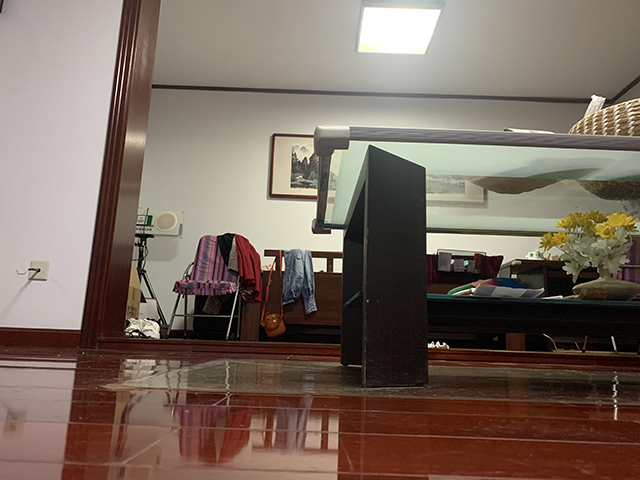bed: (237, 243, 526, 351)
stool: (168, 233, 264, 342)
table: (309, 122, 640, 390)
